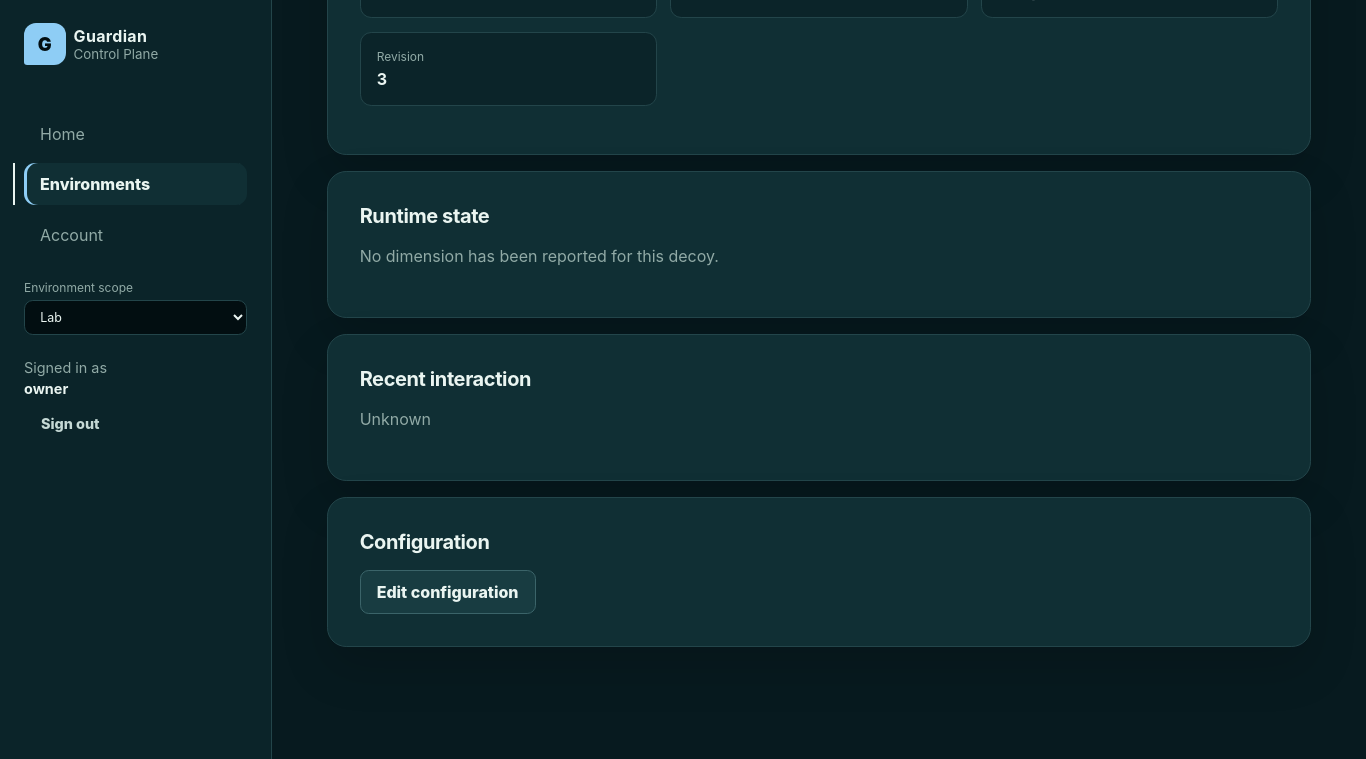
Test case: the decoy detail screen › renders a stale revision as a conflict and offers the current value
The image size is (1366, 759).
(page scrolled)
Click the button "Edit configuration" at (448, 592), box [360,570,536,614]
(page scrolled)
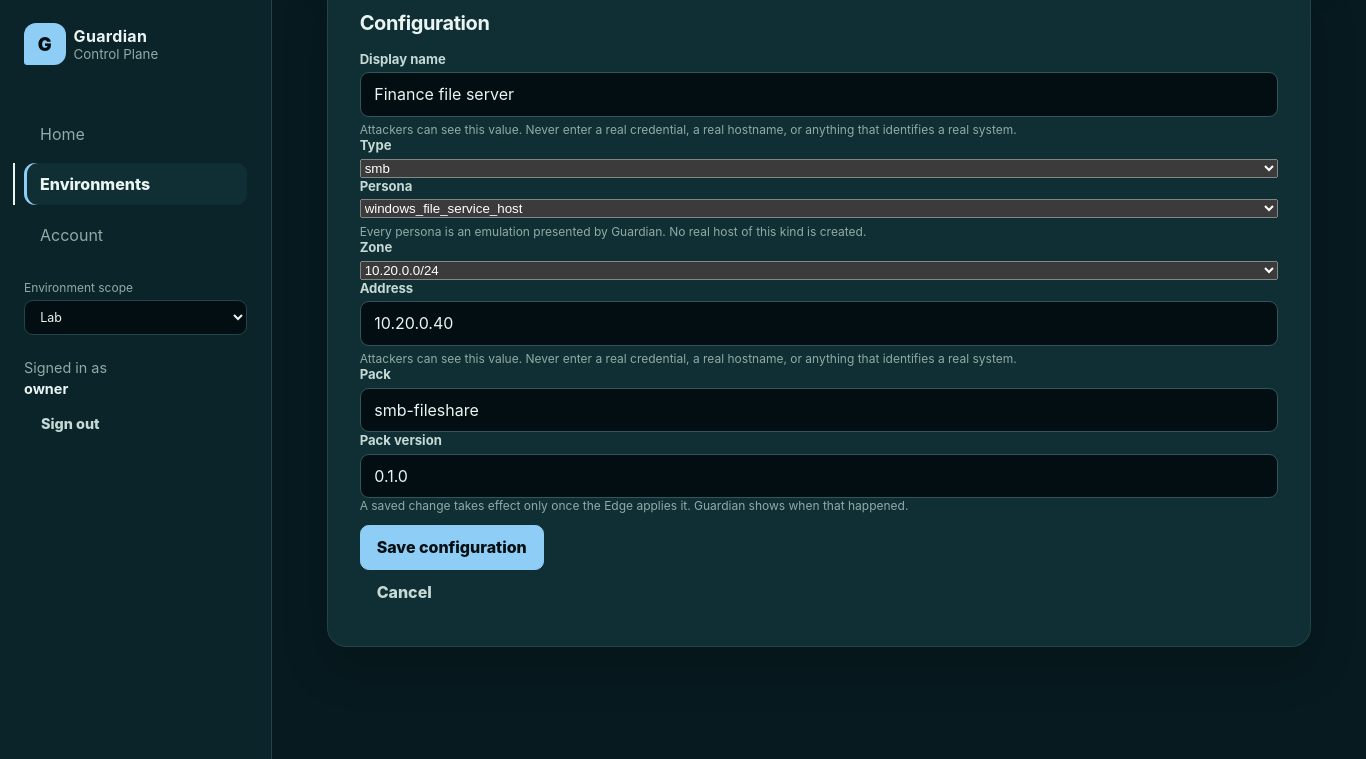
Click the button "Save configuration" at (452, 547), box [360,525,544,570]
(page scrolled)
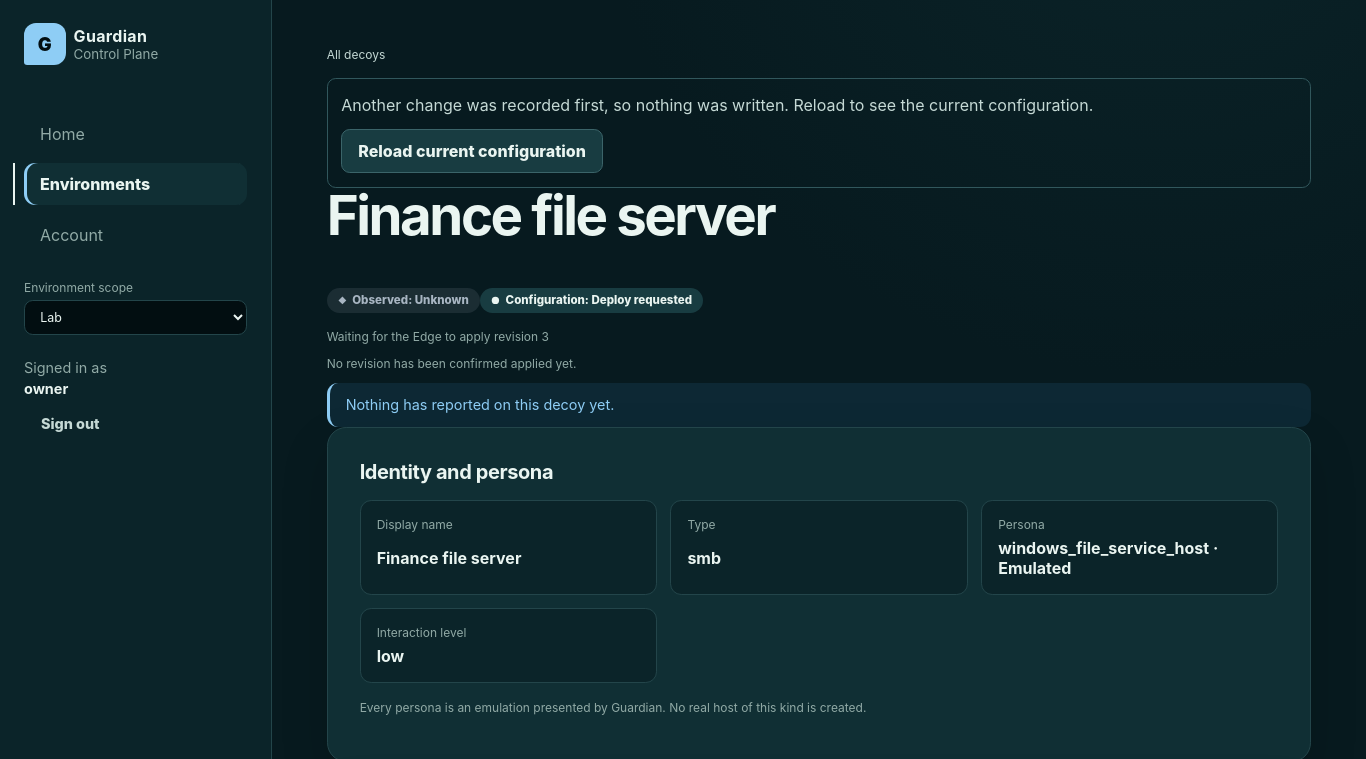
expect the text "Another change was recorded first" is shown: met, box [341,95,1093,115]
expect the button "Reload current configuration" is shown: met, box [341,129,603,173]
